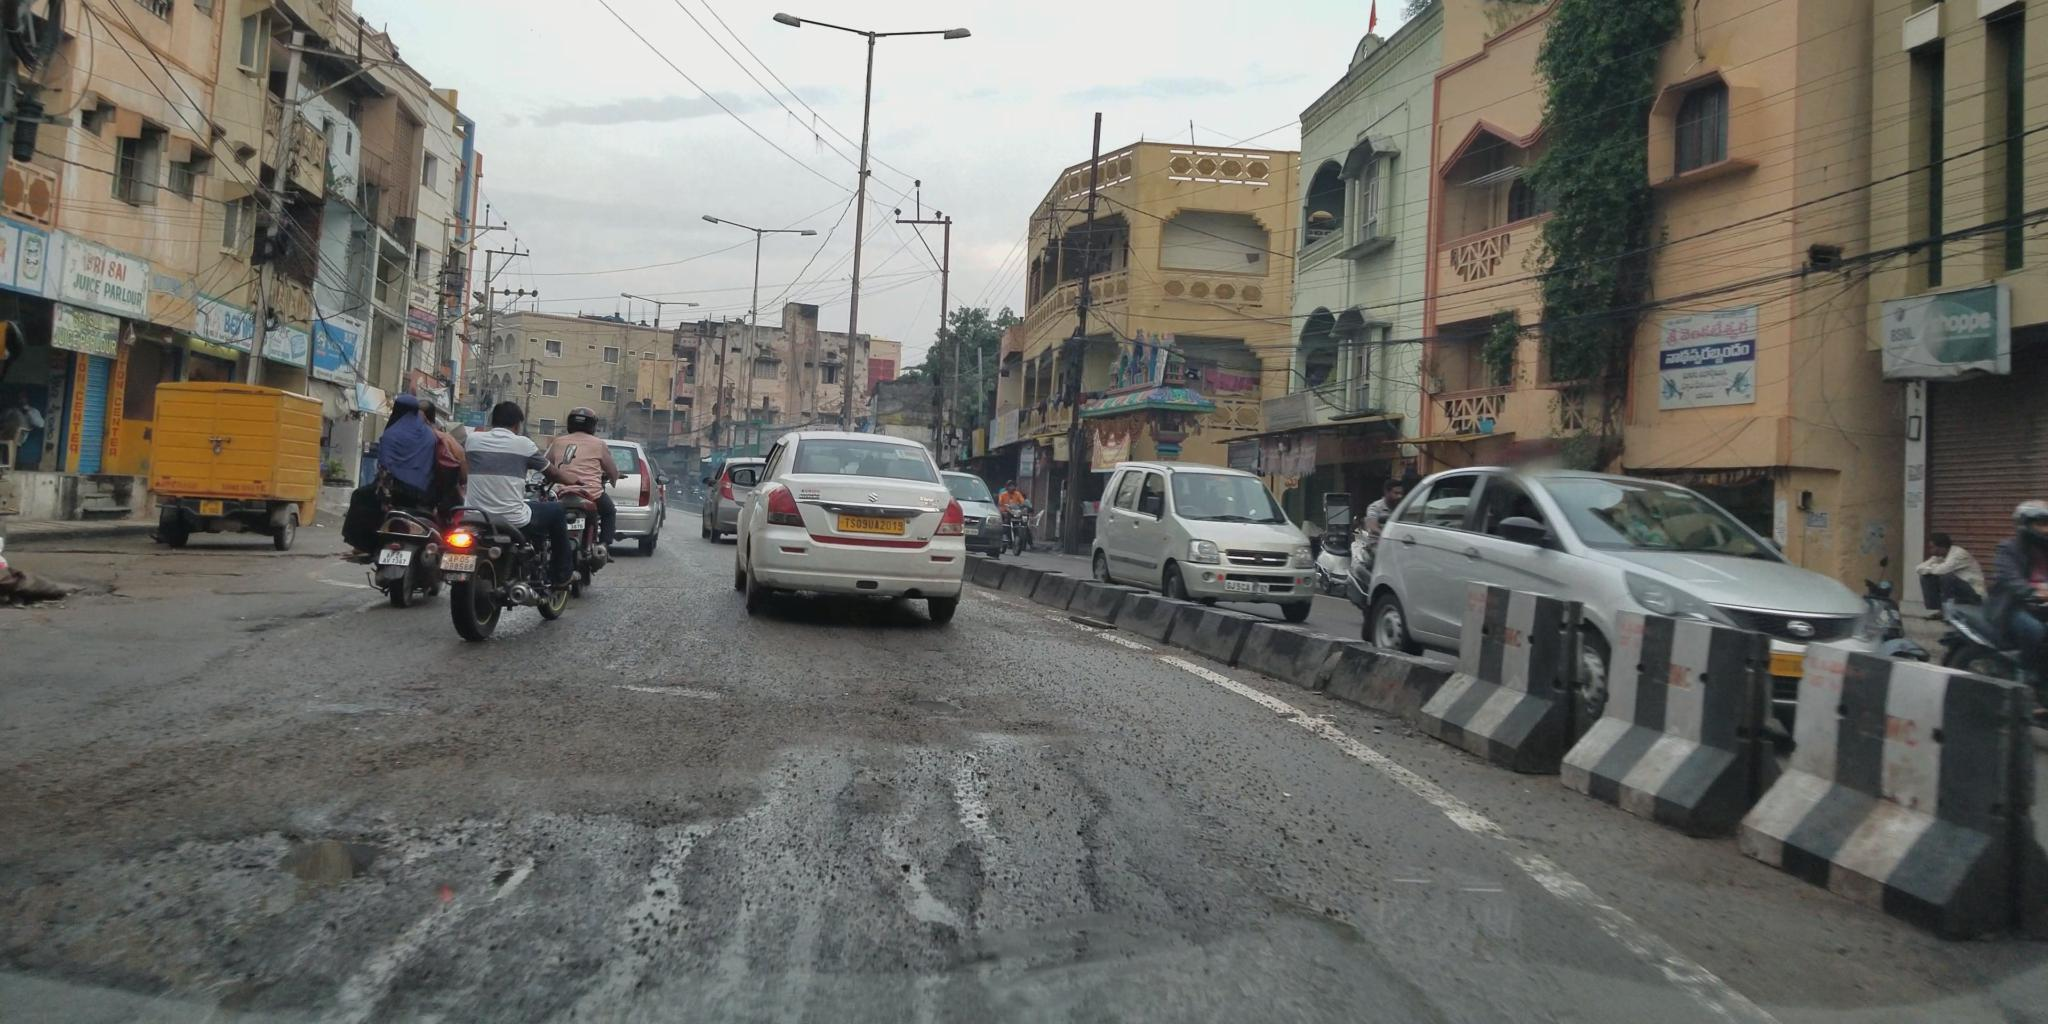off: (0, 0, 1980, 1024)
